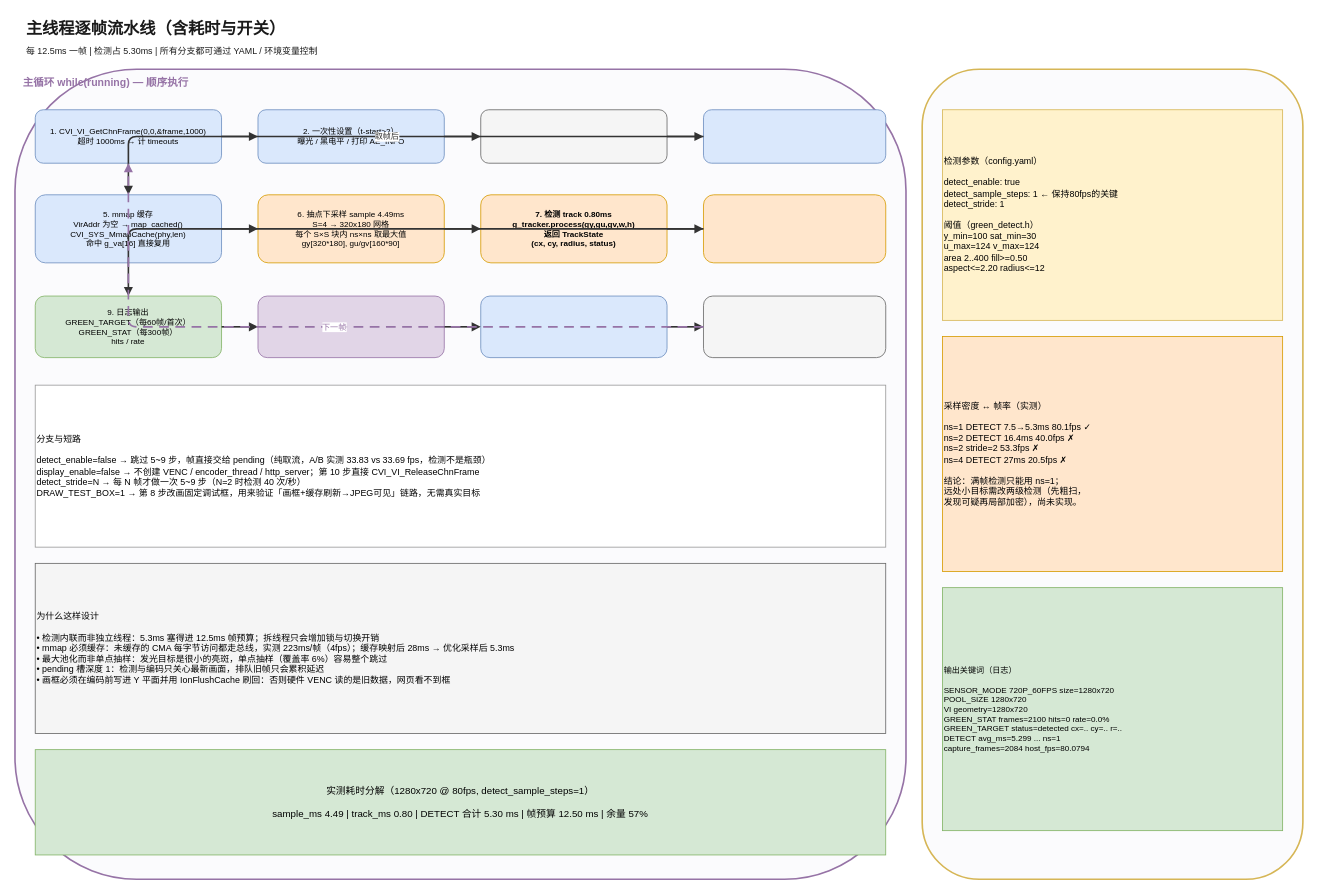
Image size: 1317x893. Some labels were removed from this diagram. Each missing label, with the box of its shape:
10. 帧交接 if display_on → pending 槽 （覆盖旧帧 preview_replaced++） else → 直接 Release: (257, 295, 444, 358)
11. 每 5 秒统计 capture_frames / host_fps DETECT avg_ms / CLOCK36_WINDOW: (480, 295, 667, 358)
12. 回到 1. 直到 running=0 （SIGINT/SIGTERM）: (703, 295, 886, 358)
3. 前 4 秒丢弃 if(t-start<4) 直接 Release: (480, 109, 667, 163)
4. 首帧打印 VI geometry 尺寸/stride/length: (703, 109, 886, 163)
8. 画框（display_on 且命中） 坐标 × S 映射回全分辨率 Y 平面写 255（3px 白框） IonFlushCache 写回 DRAM: (703, 194, 886, 263)
控制开关 / 实测数据: (921, 68, 1303, 880)
